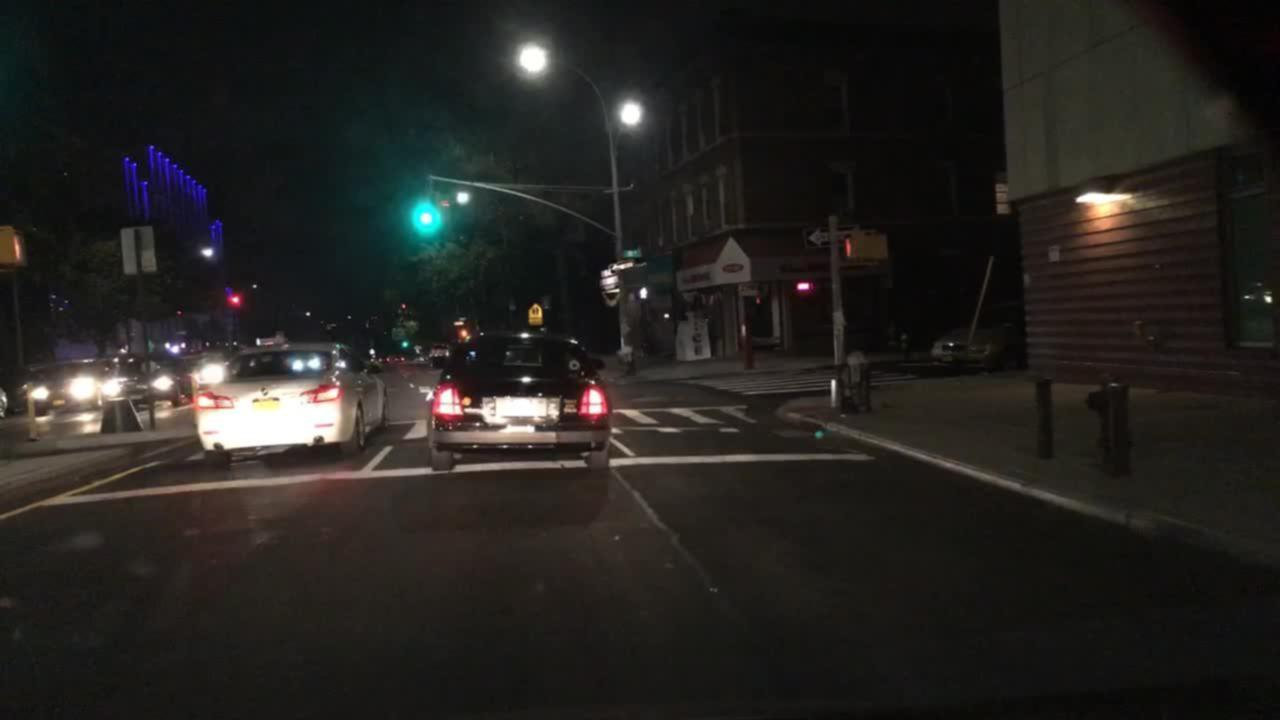bmw: (256, 383, 272, 397)
